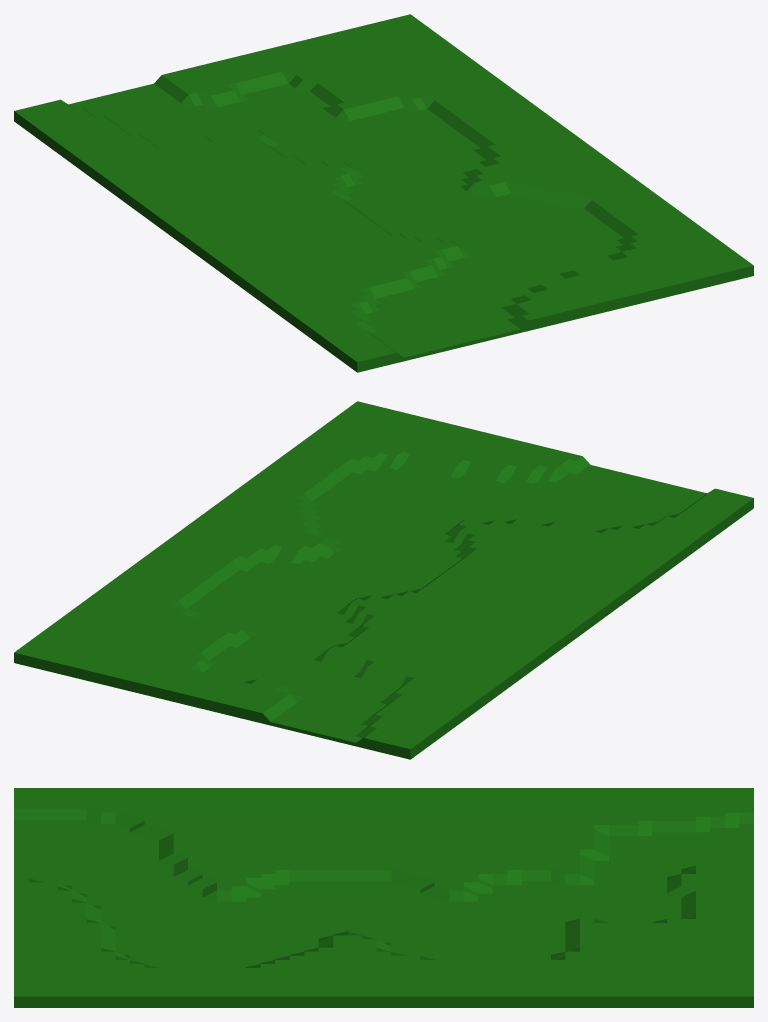
The model's file is river.glb.
The picture shows the model from 3 angles, top to bottom: view 1: azimuth 30°, elevation 25°; view 2: azimuth 150°, elevation 25°; view 3: azimuth 270°, elevation 25°; orthographic projection. The views are drawn at different scales.
Parts seen in each view (by area): view 1: Cube; view 2: Cube; view 3: Cube.
Part boxes in pixels (left/top/right/bottom): Cube: left=14, top=14, right=753, bottom=372; Cube: left=14, top=401, right=753, bottom=759; Cube: left=14, top=788, right=753, bottom=1007.
Bounding box in the file's own units: 80 × 2 × 120.
